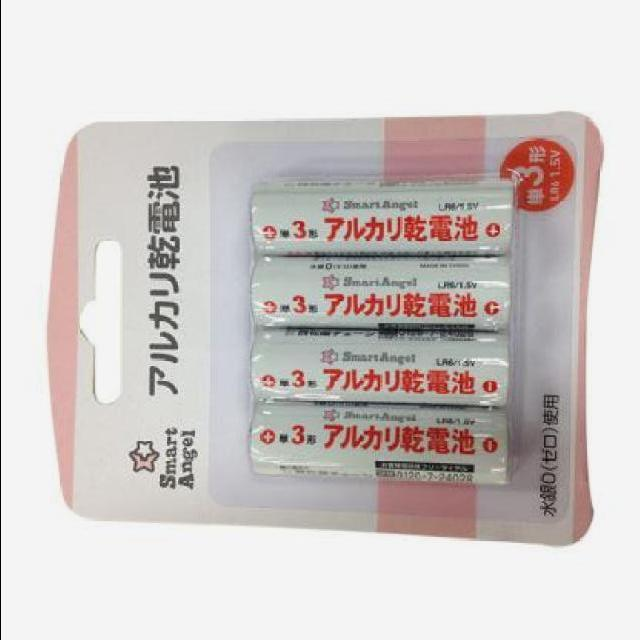AA: (242, 400, 522, 488), (243, 175, 519, 260), (244, 331, 514, 406), (244, 256, 516, 330)
